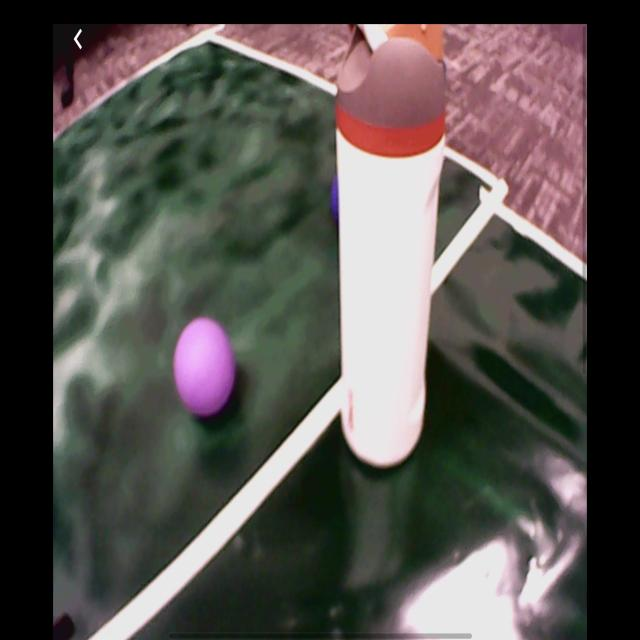ball: (175, 316, 236, 422), (329, 175, 340, 233)
